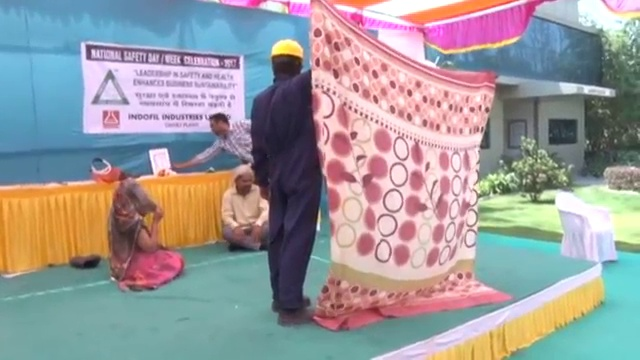helmet: (269, 38, 305, 59)
helmet_off: (116, 178, 144, 207), (234, 164, 253, 197), (208, 112, 231, 138)
helmet_on: (268, 38, 305, 80)
person: (250, 34, 330, 325), (100, 176, 184, 291), (222, 158, 274, 249), (174, 110, 263, 163)
